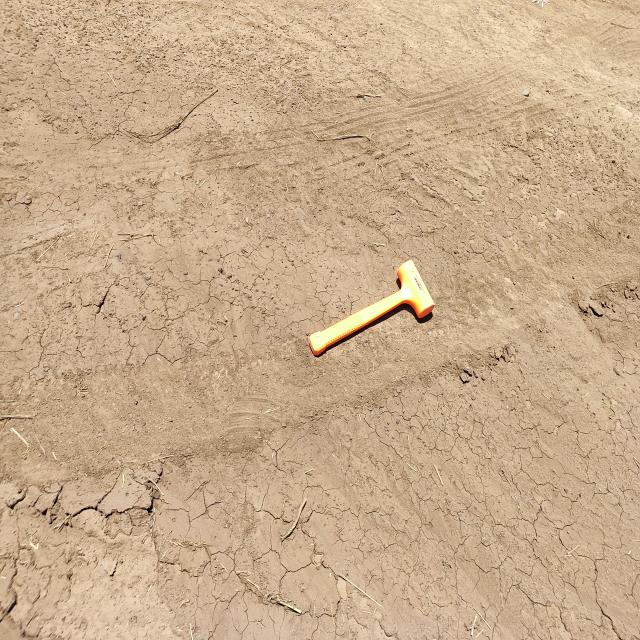Orange_hammer: (307, 258, 435, 357)
